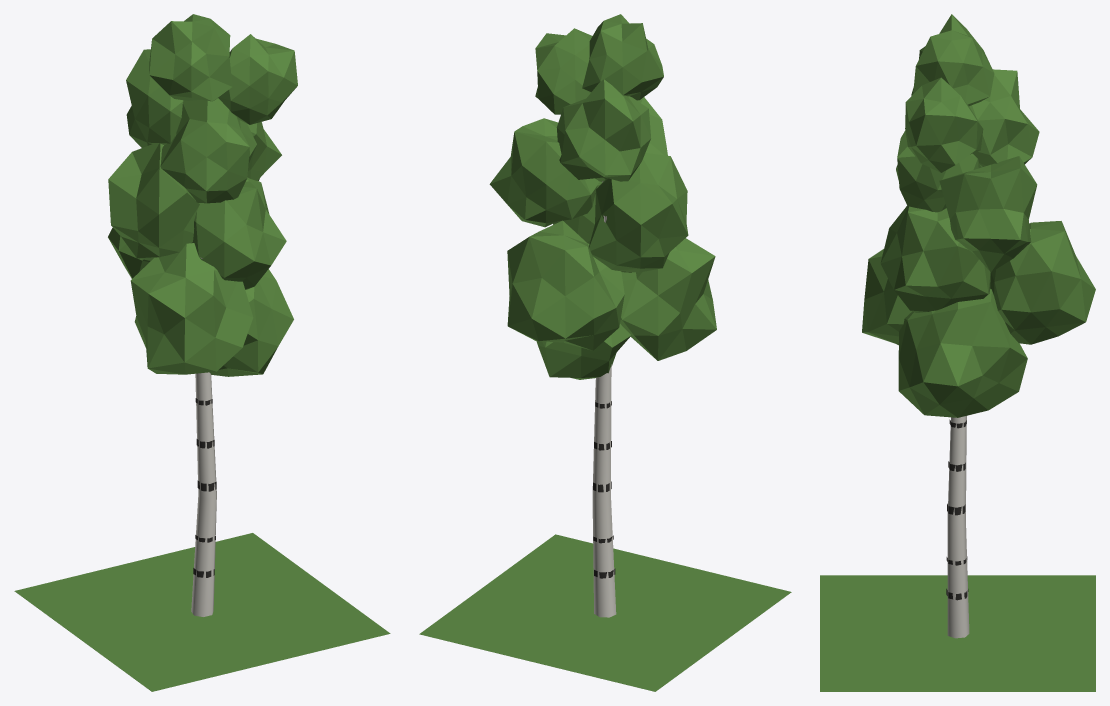
3 renders of one model, left to right at view 1: azimuth 30°, elevation 25°; view 2: azimuth 150°, elevation 25°; view 3: azimuth 270°, elevation 25°, orthographic.
Parts seen in each view (by area): view 1: Canopy, Footprint, Trunk; view 2: Canopy, Footprint, Trunk; view 3: Canopy, Footprint, Trunk, Bands.
Part boxes in pixels (left/top/right/bottom): Canopy: left=108, top=14, right=297, bottom=376; Footprint: left=14, top=533, right=390, bottom=691; Trunk: left=191, top=372, right=216, bottom=616; Canopy: left=489, top=14, right=716, bottom=379; Footprint: left=419, top=534, right=791, bottom=691; Trunk: left=592, top=181, right=616, bottom=617; Canopy: left=862, top=14, right=1095, bottom=417; Footprint: left=820, top=575, right=1095, bottom=691; Trunk: left=947, top=416, right=969, bottom=638; Bands: left=946, top=419, right=968, bottom=600.
Bounding box in the file's own units: 3.22 × 7.8 × 3.22.
